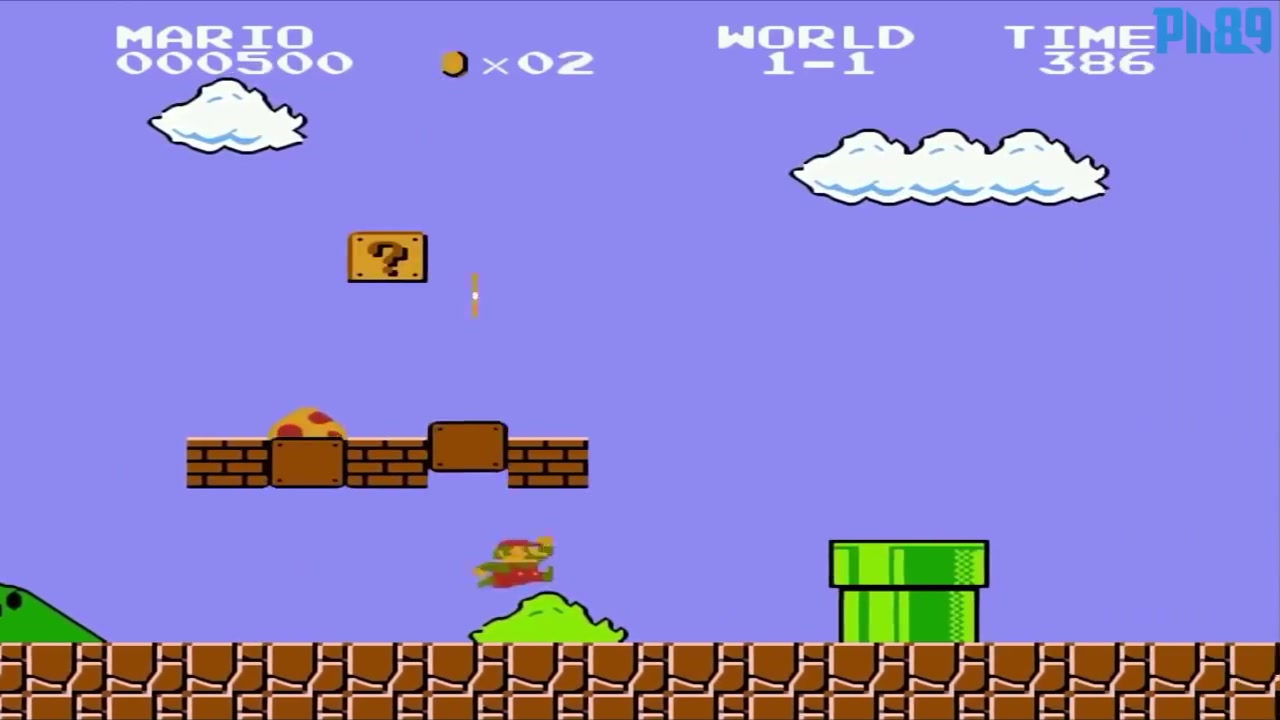mario: (467, 528, 567, 592)
